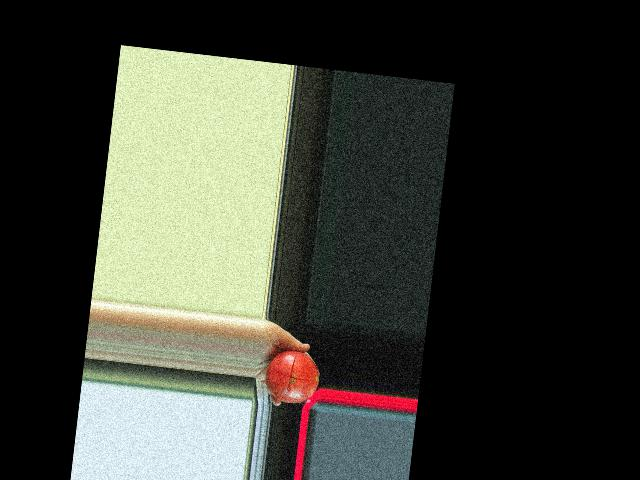tomato: (262, 347, 321, 406)
